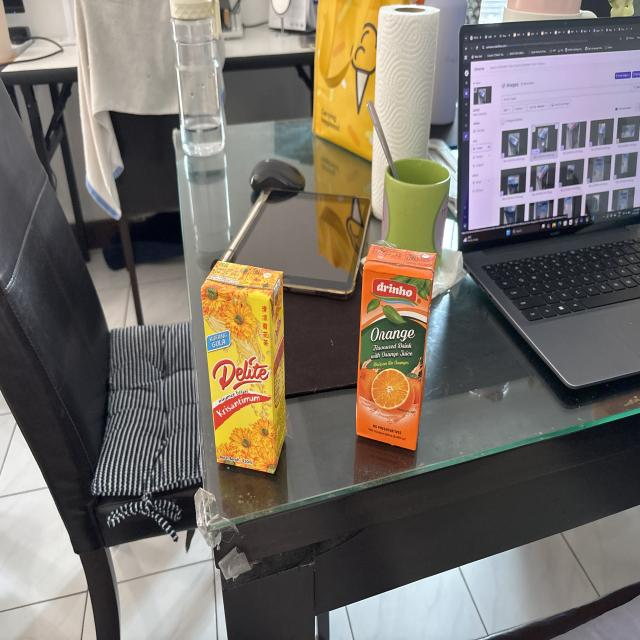drink_carton: (198, 254, 294, 485), (348, 237, 444, 461)
